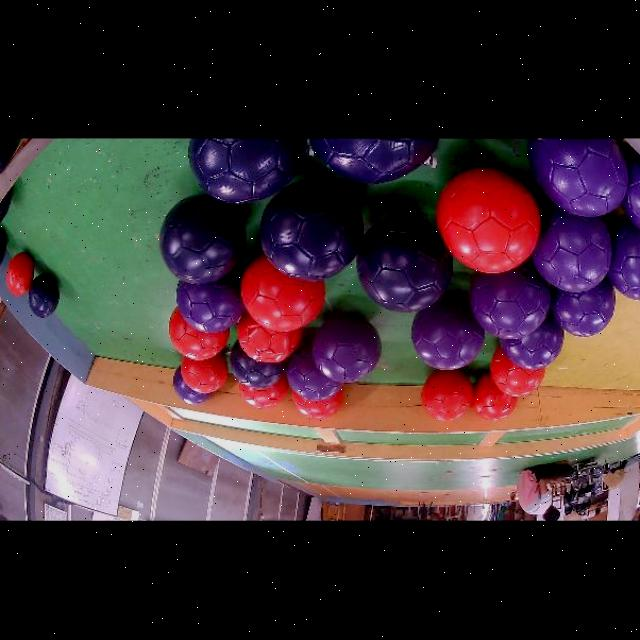B: (261, 180, 363, 281), (356, 216, 453, 312), (160, 194, 246, 284), (189, 138, 306, 203), (310, 138, 439, 183), (230, 340, 287, 389), (28, 273, 60, 317)
P: (528, 138, 628, 216), (532, 202, 612, 292), (469, 260, 550, 339), (411, 295, 485, 369), (313, 315, 382, 382), (177, 271, 245, 332), (550, 276, 616, 336), (500, 311, 564, 369), (286, 343, 343, 401), (608, 216, 640, 300), (621, 153, 640, 230), (173, 367, 210, 405)
R: (436, 169, 540, 272), (241, 254, 326, 332), (237, 313, 302, 363), (169, 308, 229, 360), (491, 347, 545, 397), (422, 370, 473, 421), (472, 373, 519, 421), (180, 353, 228, 393), (239, 376, 289, 409), (293, 388, 344, 420), (7, 252, 35, 296)
